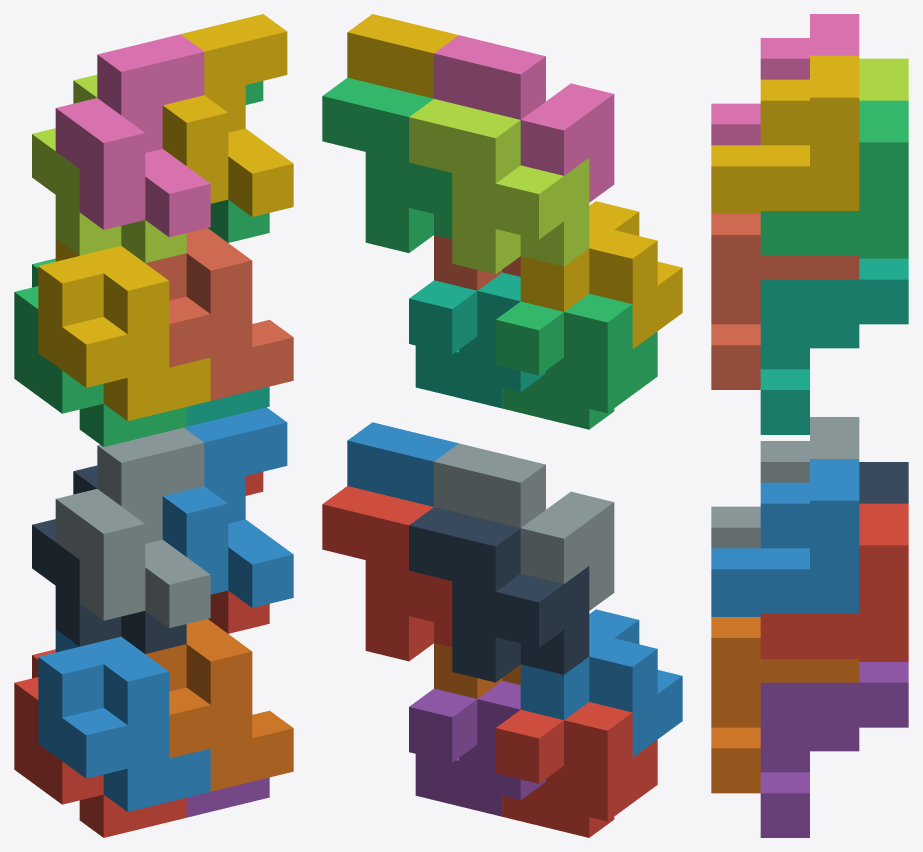
The model's file is tiling.obj.
3 renders of one model, left to right at view 1: azimuth 30°, elevation 25°; view 2: azimuth 150°, elevation 25°; view 3: azimuth 270°, elevation 25°, orthographic. The views are drawn at different scales.
Parts seen in each view (by area): view 1: copy_2_domain_4, copy_2_domain_2, copy_1_domain_4, copy_1_domain_2, copy_2_domain_8, copy_2_domain_6, copy_1_domain_8, copy_1_domain_6, copy_1_domain_1, copy_1_domain_3, copy_2_domain_1, copy_2_domain_3 (+4 smaller); view 2: copy_2_domain_1, copy_2_domain_3, copy_1_domain_1, copy_1_domain_3, copy_2_domain_4, copy_2_domain_2, copy_2_domain_5, copy_2_domain_7, copy_1_domain_2, copy_1_domain_4, copy_1_domain_5, copy_1_domain_7 (+4 smaller); view 3: copy_2_domain_8, copy_2_domain_6, copy_1_domain_7, copy_1_domain_5, copy_2_domain_5, copy_2_domain_7, copy_1_domain_8, copy_1_domain_6, copy_2_domain_2, copy_2_domain_4, copy_2_domain_3, copy_2_domain_1.
Boxes of the visible parts, box(x1,y1,x2,y2) form: copy_2_domain_4: box(55, 34, 210, 237); copy_2_domain_2: box(55, 427, 210, 628); copy_1_domain_4: box(38, 238, 210, 420); copy_1_domain_2: box(38, 629, 210, 811); copy_2_domain_8: box(162, 14, 293, 216); copy_2_domain_6: box(162, 407, 293, 607); copy_1_domain_8: box(145, 228, 293, 400); copy_1_domain_6: box(145, 619, 293, 791); copy_1_domain_1: box(14, 649, 186, 837); copy_1_domain_3: box(14, 258, 186, 446); copy_2_domain_1: box(32, 465, 186, 653); copy_2_domain_3: box(32, 74, 186, 263); copy_2_domain_1: box(409, 507, 589, 682); copy_2_domain_3: box(409, 99, 589, 274); copy_1_domain_1: box(495, 702, 657, 837); copy_1_domain_3: box(495, 293, 657, 429); copy_2_domain_4: box(434, 35, 614, 202); copy_2_domain_2: box(434, 443, 614, 610); copy_2_domain_5: box(322, 486, 452, 661); copy_2_domain_7: box(322, 77, 452, 252); copy_1_domain_2: box(520, 609, 682, 757); copy_1_domain_4: box(520, 201, 682, 348); copy_1_domain_5: box(409, 681, 545, 816); copy_1_domain_7: box(409, 272, 545, 408); copy_2_domain_8: box(711, 55, 859, 210); copy_2_domain_6: box(711, 459, 859, 613); copy_1_domain_7: box(760, 258, 908, 434); copy_1_domain_5: box(760, 662, 908, 837); copy_2_domain_5: box(760, 503, 908, 658); copy_2_domain_7: box(760, 100, 908, 255); copy_1_domain_8: box(711, 214, 859, 389); copy_1_domain_6: box(711, 617, 859, 793); copy_2_domain_2: box(711, 417, 859, 548); copy_2_domain_4: box(711, 14, 859, 145); copy_2_domain_3: box(859, 58, 908, 100); copy_2_domain_1: box(859, 462, 908, 503).
Size of the model in its own units: 6 by 17 by 4.
